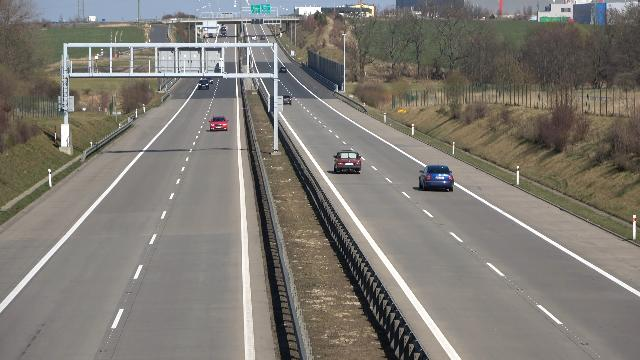car: (419, 162, 455, 193), (334, 149, 364, 175), (208, 115, 230, 131), (280, 95, 292, 106), (198, 79, 210, 90), (278, 66, 288, 74), (260, 36, 264, 40)
truck: (219, 27, 228, 37)
van: (251, 35, 256, 41)
